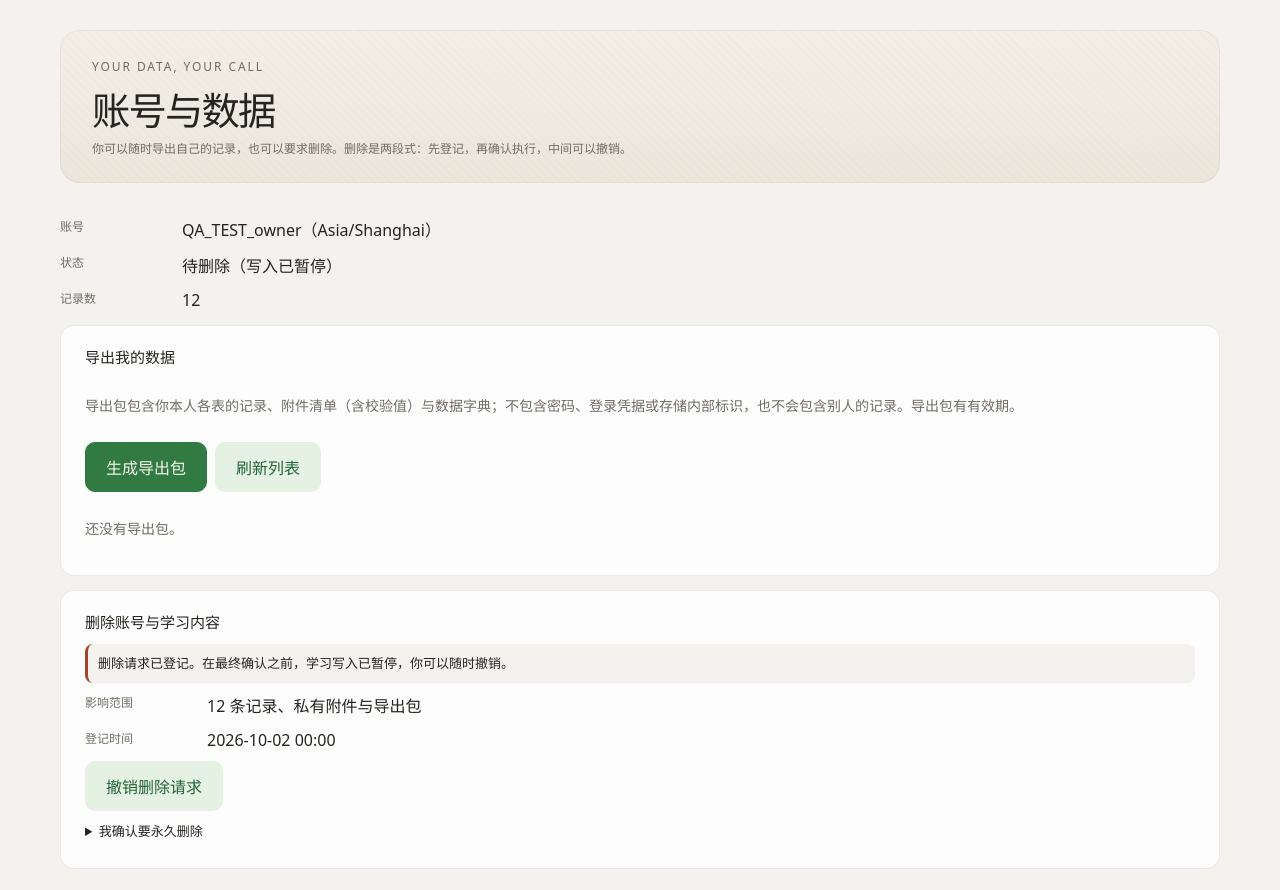
Test: account data sovereignty › shows a pending request with its impact, the write pause and a second confirmation
This screenshot has width=1280, height=890.
Check: the text "删除请求已登记。在最终确认之前，学习写入已暂停，你可以随时撤销。" is shown, box [85,644,1195,683]
Check: the text "12 条记录、私有附件与导出包" is shown, box [207,695,422,717]
Click the heading "我确认要永久删除": (151, 831) [99,822,203,840]
(page scrolled)
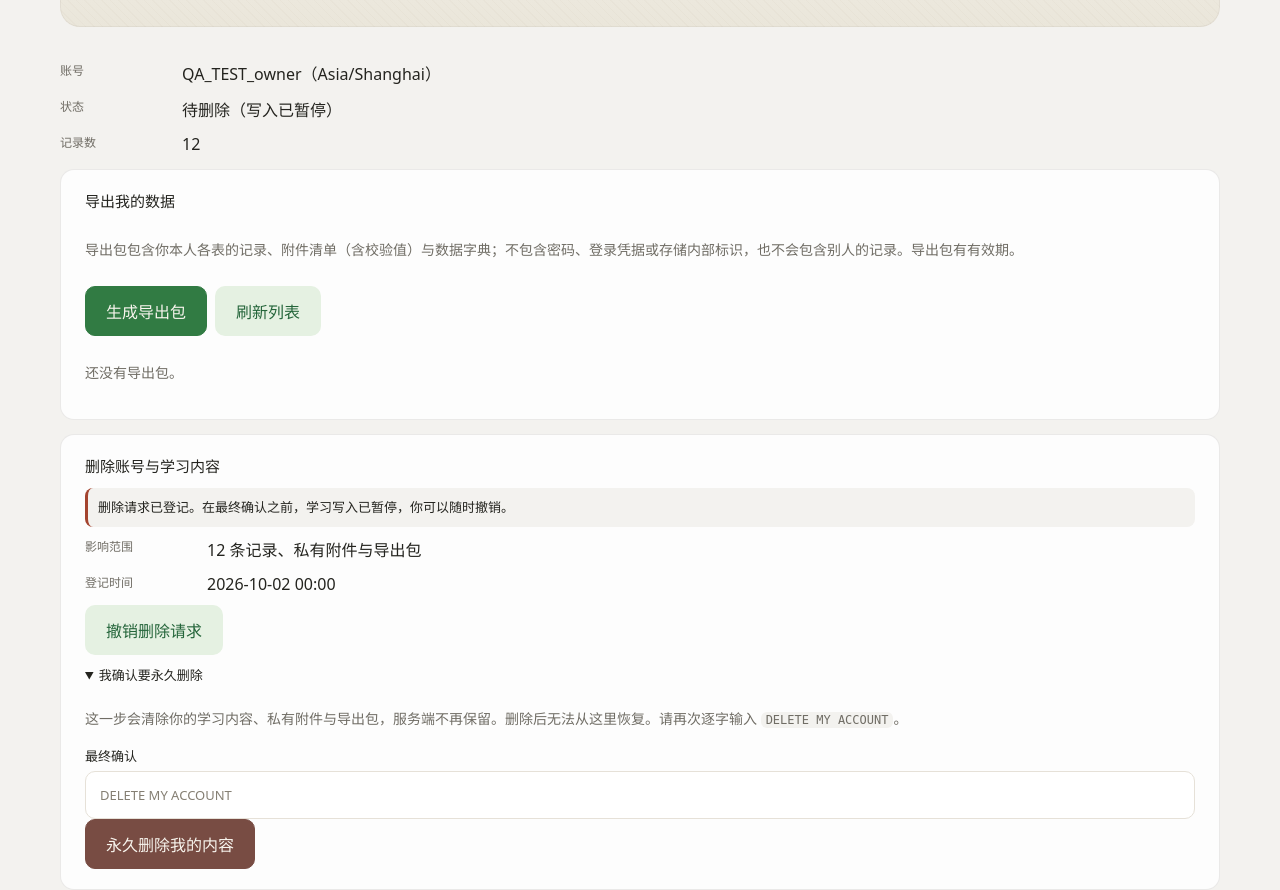
Check: the button "永久删除我的内容" is shown, box [85,819,255,869]
